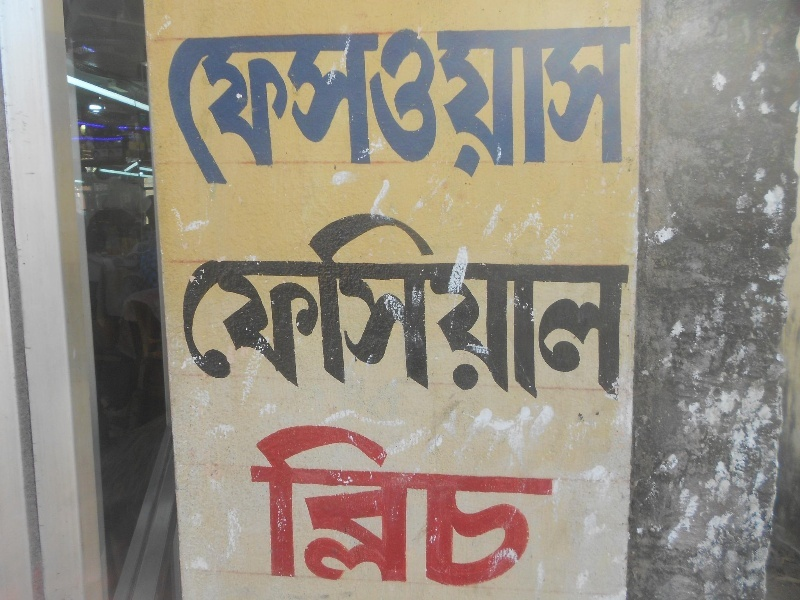text: (193, 207, 208, 404), (209, 207, 224, 404), (225, 207, 240, 404), (241, 207, 256, 404), (257, 207, 272, 404), (273, 207, 288, 404), (289, 207, 304, 404), (305, 207, 320, 404), (321, 207, 336, 404), (337, 207, 352, 404), (353, 207, 368, 404), (369, 207, 384, 404), (385, 207, 400, 404), (401, 207, 416, 404), (417, 207, 432, 404), (433, 207, 448, 404), (449, 207, 464, 404), (465, 207, 480, 404), (481, 207, 496, 404), (497, 207, 512, 404), (513, 207, 528, 404), (529, 207, 544, 404), (545, 207, 560, 404), (561, 207, 576, 404), (577, 207, 592, 404), (593, 207, 608, 404), (609, 207, 624, 404), (257, 422, 272, 594), (273, 422, 288, 594), (289, 422, 304, 594), (305, 422, 320, 594), (321, 422, 336, 594), (337, 422, 352, 594), (353, 422, 368, 594), (369, 422, 384, 594), (385, 422, 400, 594), (401, 422, 416, 594), (417, 422, 432, 594), (433, 422, 448, 594), (449, 422, 464, 594), (465, 422, 480, 594), (481, 422, 496, 594), (497, 422, 512, 594), (513, 422, 528, 594), (529, 422, 544, 594), (179, 207, 192, 404), (161, 29, 176, 185), (177, 29, 192, 185), (193, 29, 208, 185), (209, 29, 224, 185), (225, 29, 240, 185), (241, 29, 256, 185), (257, 29, 272, 185), (273, 29, 288, 185), (289, 29, 304, 185), (305, 29, 320, 185), (321, 29, 336, 185), (337, 29, 352, 185), (353, 29, 368, 185), (369, 29, 384, 185), (385, 29, 400, 185), (401, 29, 416, 185), (417, 29, 432, 185), (433, 29, 448, 185), (449, 29, 464, 185), (465, 29, 480, 185), (481, 29, 496, 185), (497, 29, 512, 185), (513, 29, 528, 185), (529, 29, 544, 185), (545, 29, 560, 185), (561, 29, 576, 185), (577, 29, 592, 185), (593, 29, 608, 185), (609, 29, 624, 185), (545, 422, 556, 594), (246, 422, 256, 594), (625, 29, 634, 185), (625, 207, 631, 404)
